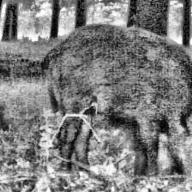boar: (46, 14, 191, 176)
